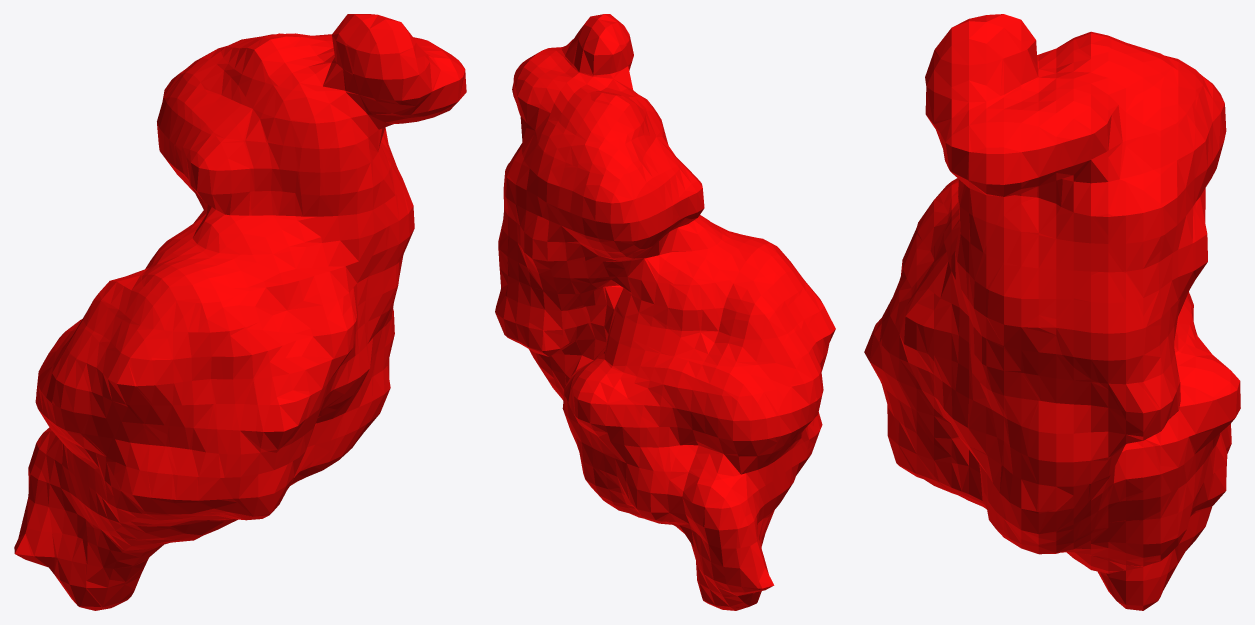
File: prmB_coarse.dae
The picture shows the model from 3 angles, left to right: view 1: azimuth 30°, elevation 25°; view 2: azimuth 150°, elevation 25°; view 3: azimuth 270°, elevation 25°; orthographic projection. The views are drawn at different scales.
Visible parts, largest first — view 1: prmB; view 2: prmB; view 3: prmB.
Boxes of the visible parts, x1=… form: prmB: x1=14, y1=14, x2=466, y2=610; prmB: x1=495, y1=14, x2=835, y2=610; prmB: x1=864, y1=14, x2=1240, y2=610.
Bounding box in the file's own units: 59.02 × 87.15 × 42.09.
